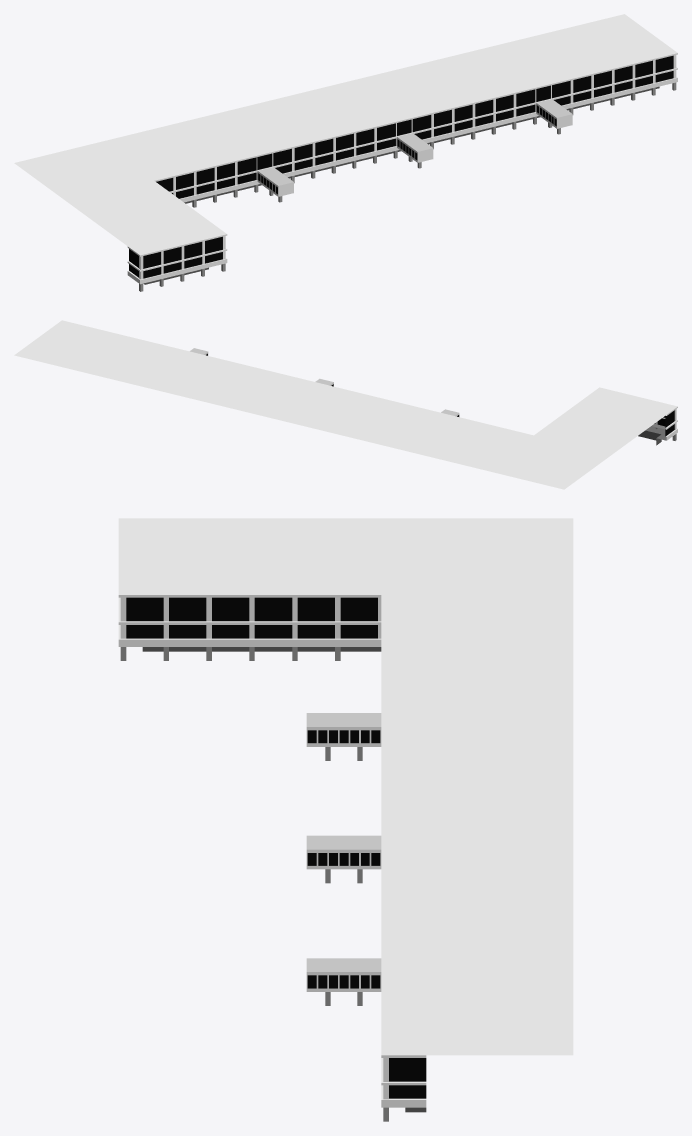
File: Terminal Building.fbx
The picture shows the model from 3 angles, top to bottom: view 1: azimuth 30°, elevation 25°; view 2: azimuth 150°, elevation 25°; view 3: azimuth 270°, elevation 25°; orthographic projection. The views are drawn at different scales.
Parts seen in each view (by area): view 1: Terminal Building; view 2: Terminal Building; view 3: Terminal Building.
Boxes of the visible parts, <box> form: Terminal Building: <box>14,14,677,291</box>; Terminal Building: <box>14,320,677,489</box>; Terminal Building: <box>118,518,573,1121</box>.
Bounding box in the file's own units: 23228 × 1352 × 8311.
Materials: 1 (1 with a texture image).
